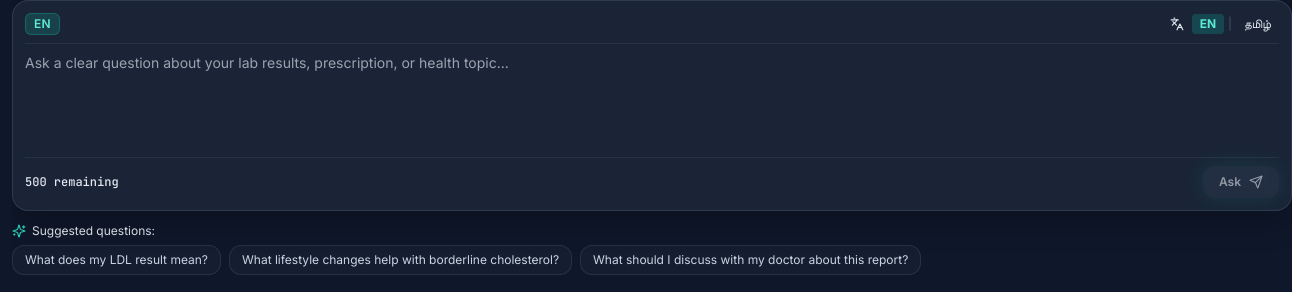
Test: Query Interaction Layer Component Tests › QueryInput Component › auto detects Tamil language script input
The image size is (1292, 292).
In the text box with test id "query-textarea": x=652, y=98 x1=25 y1=52 x2=1279 y2=143, type "கொலஸ்ட்ரால் என்றால் என்ன?"
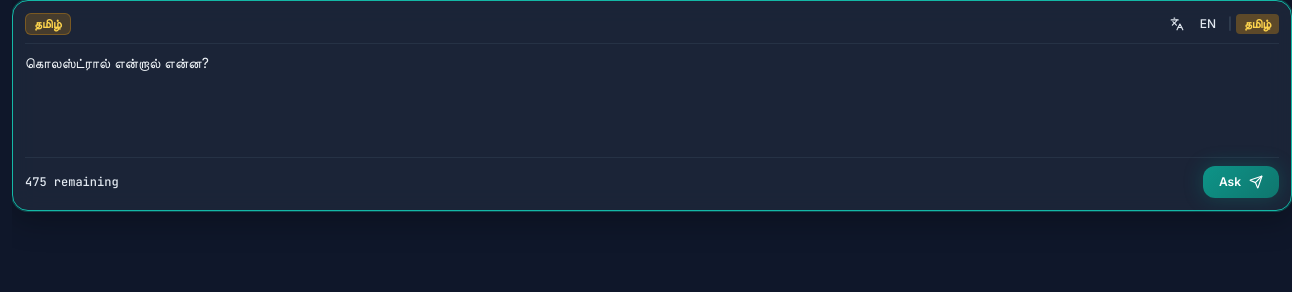
Check: the text with test id "language-indicator" reads "தமிழ்", box x1=34 y1=16 x2=62 y2=31
